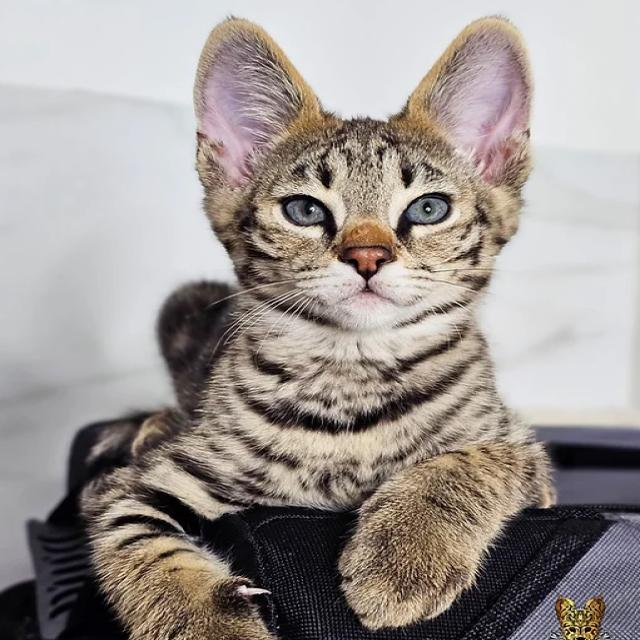Savannah: (64, 10, 558, 640)
